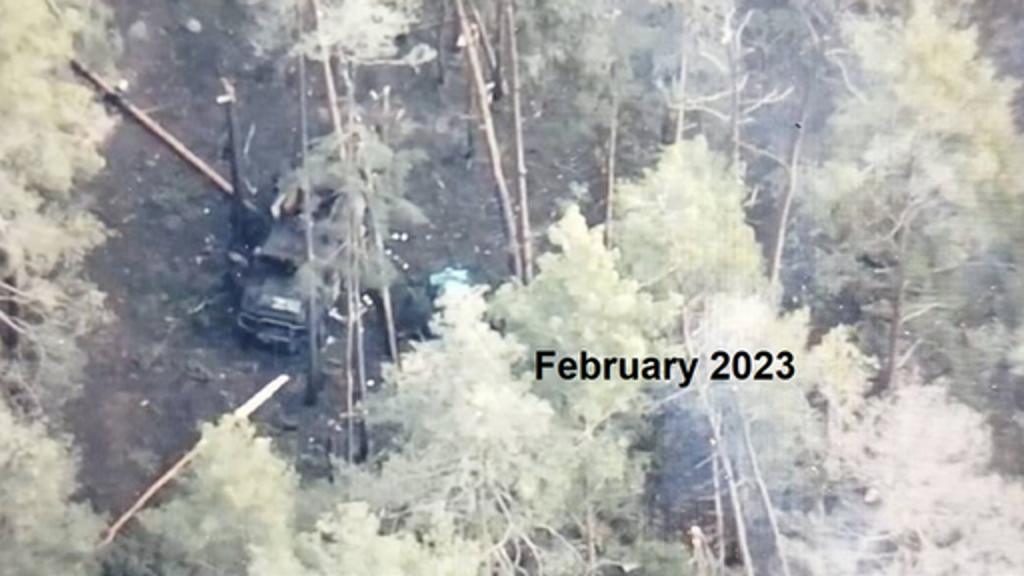CAR: (232, 194, 360, 356)
